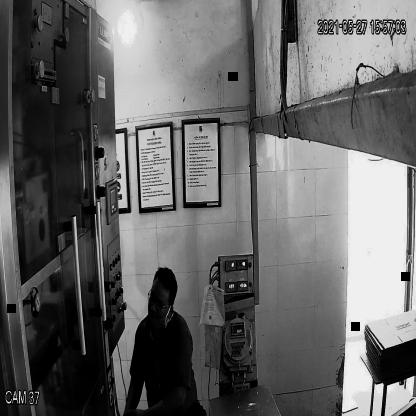goggles: (142, 284, 172, 314)
